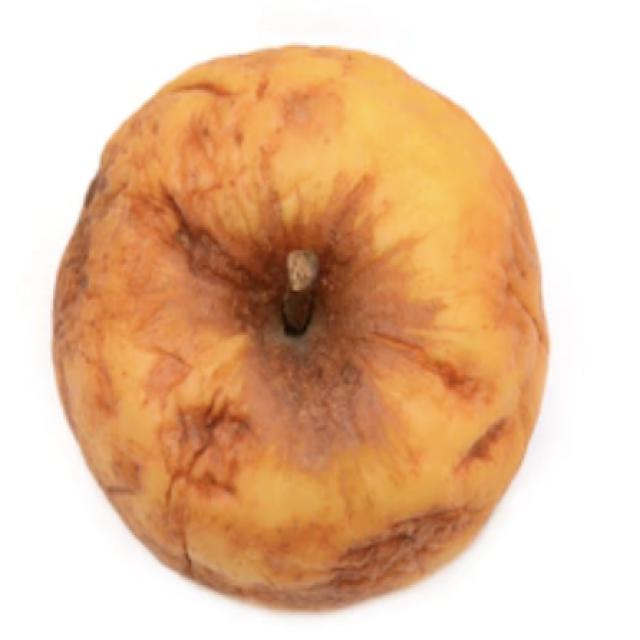rotten_apple: (48, 38, 544, 605)
